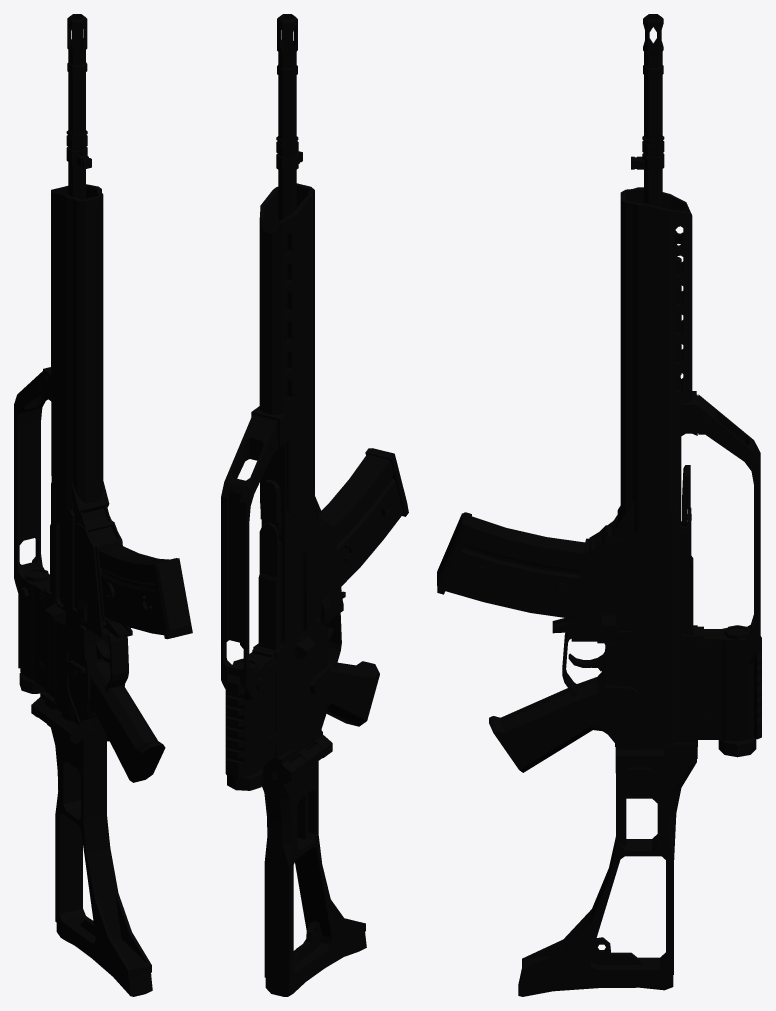
3 renders of one model, left to right at view 1: azimuth 30°, elevation 25°; view 2: azimuth 150°, elevation 25°; view 3: azimuth 270°, elevation 25°, orthographic. The views are drawn at different scales.
Visible parts, largest first — view 1: asset_HK_G36.001; view 2: asset_HK_G36.001; view 3: asset_HK_G36.001.
Boxes of the visible parts, x1,y1,x2,y2 form: asset_HK_G36.001: (14, 14, 192, 996); asset_HK_G36.001: (221, 14, 408, 996); asset_HK_G36.001: (437, 14, 761, 996).
Size of the model in its own units: 0.0305 by 0.6 by 0.1809.
